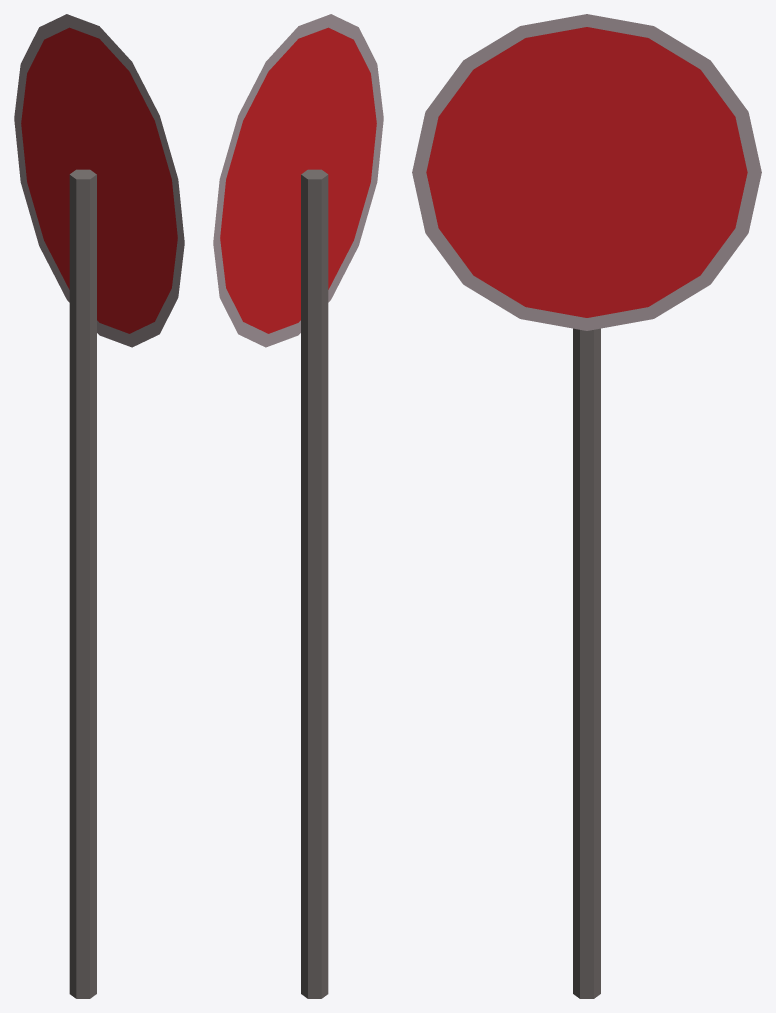
The model's file is sign.fbx.
3 views of the same model, side by side, from view 1: azimuth 30°, elevation 25°; view 2: azimuth 150°, elevation 25°; view 3: azimuth 270°, elevation 25° (orthographic). The views are drawn at different scales.
Parts seen in each view (by area): view 1: Cylinder; view 2: Cylinder; view 3: Cylinder.
Part boxes in pixels (<box>): Cylinder: <box>14,14,184,998</box>; Cylinder: <box>213,14,383,998</box>; Cylinder: <box>412,14,761,998</box>.
Size of the model in its own units: 18.27 by 635 by 204.
